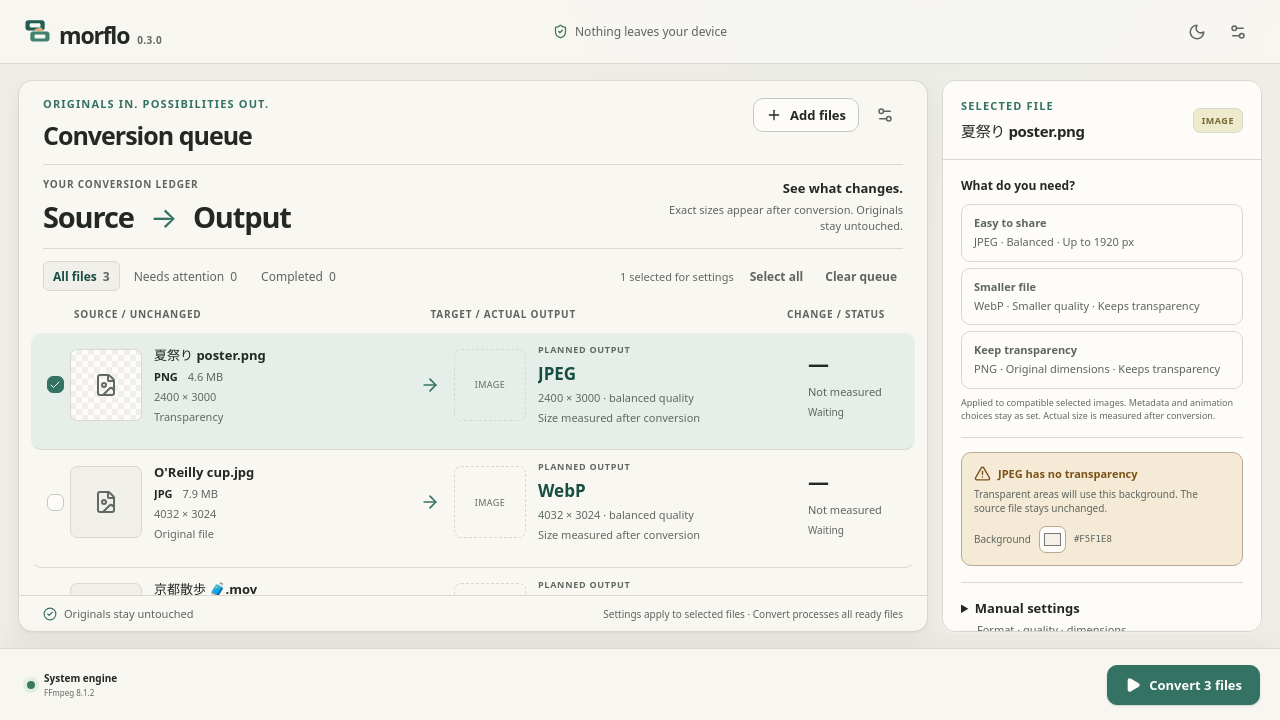
Test: Morflo primary UI › makes transparency loss explicit and responds to a safe format change
Click the heading "Manual settings".
click(1051, 618)  # box [975,599,1126,637]
(page scrolled)
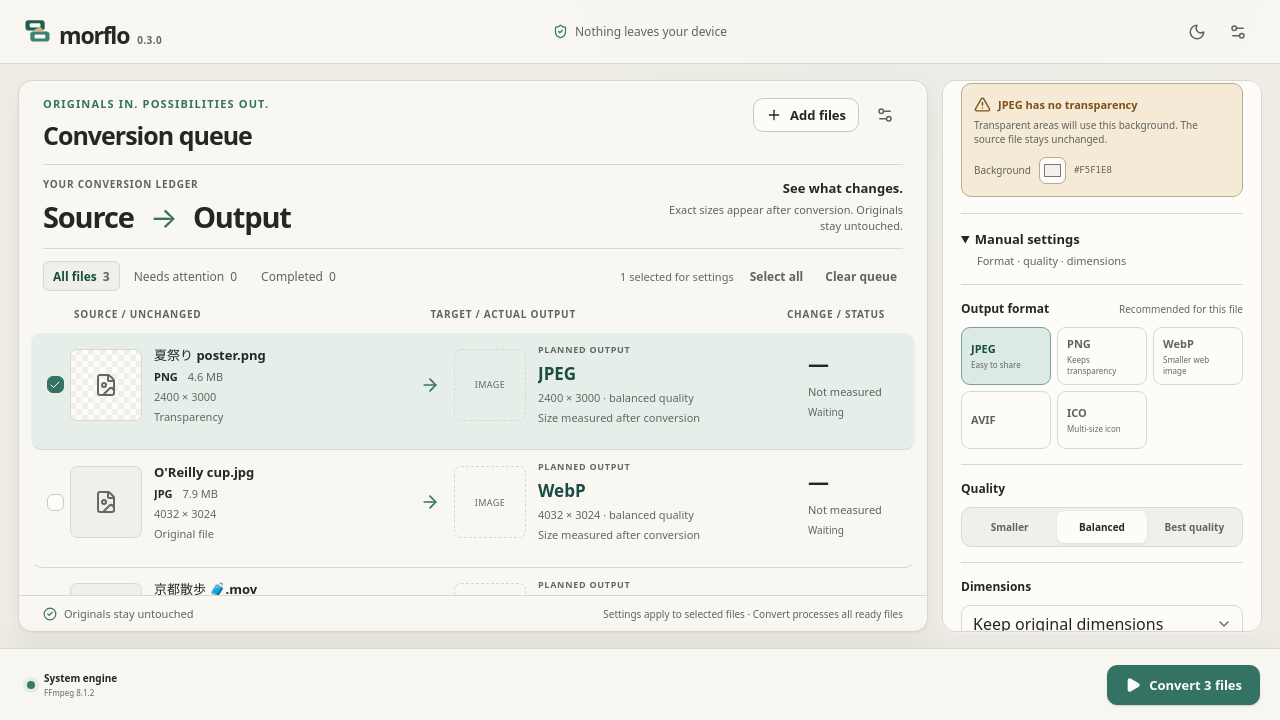
Expected: the text "JPEG has no transparency" is shown, [998,97,1138,112]
Click the button with aria-label "PNG. Keeps transparency".
click(1102, 356)  # box [1057,327,1147,385]
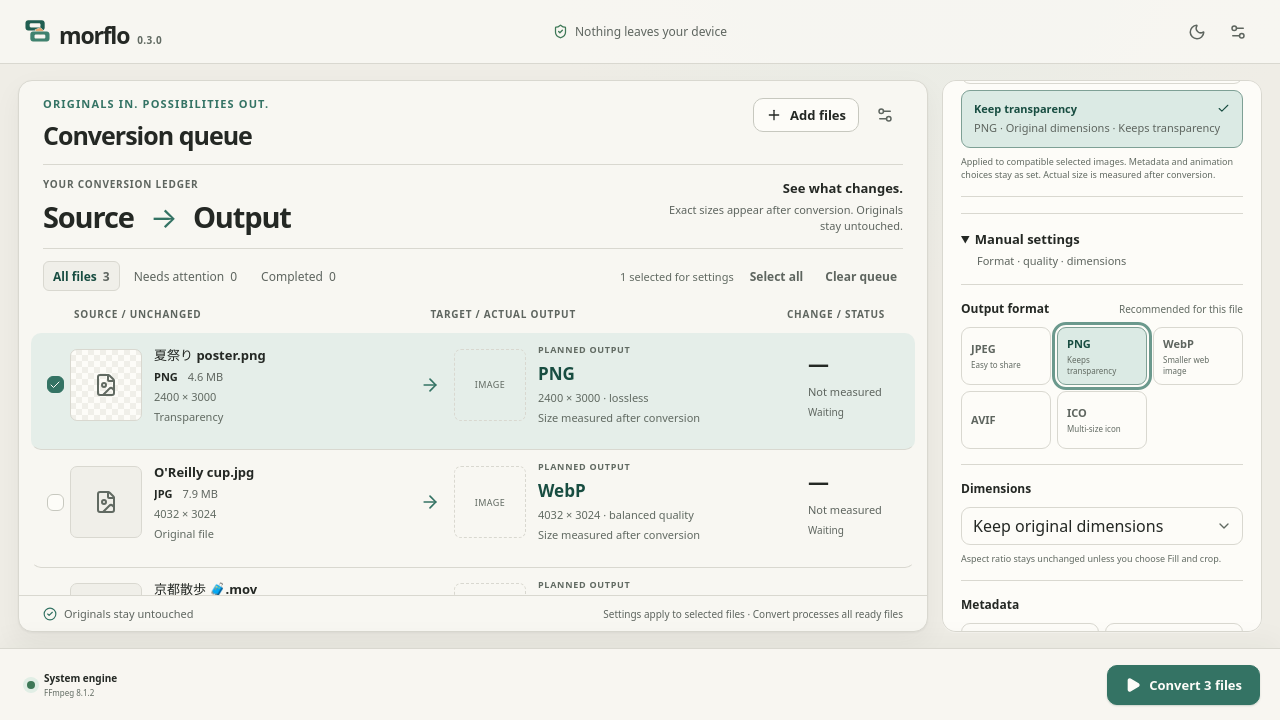
Expected: the text "Keeps transparency" is shown, [1067,354,1116,376]
Now the text "JPEG has no transparency" is gone
